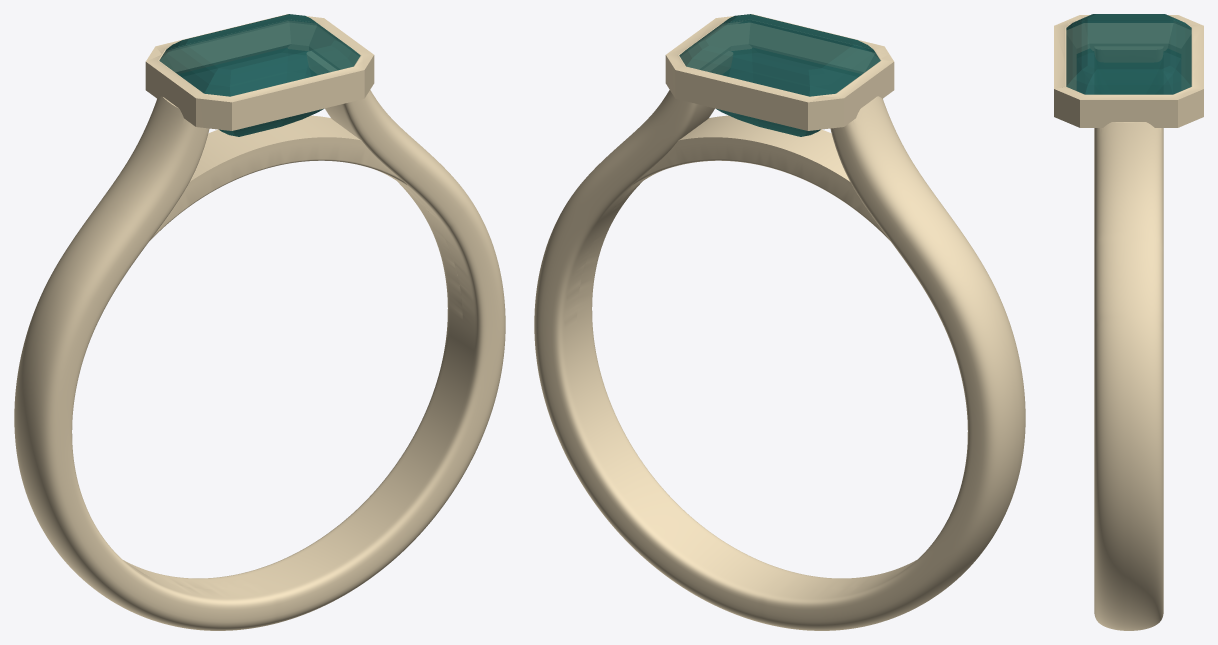
File: ring_2f6d2837.glb
3 views of the same model, side by side, from view 1: azimuth 30°, elevation 25°; view 2: azimuth 150°, elevation 25°; view 3: azimuth 270°, elevation 25° (orthographic). The views are drawn at different scales.
Visible parts, largest first — view 1: Object_1_WhiteMetal_0, Diamond_Emerald; view 2: Object_1_WhiteMetal_0, Diamond_Emerald; view 3: Object_1_WhiteMetal_0, Diamond_Emerald.
Boxes of the visible parts, x1,y1,x2,y2 form: Object_1_WhiteMetal_0: (14,14,505,630); Diamond_Emerald: (159,14,360,136); Object_1_WhiteMetal_0: (534,14,1025,630); Diamond_Emerald: (679,14,880,136); Object_1_WhiteMetal_0: (1054,15,1203,630); Diamond_Emerald: (1066,14,1191,94).
Size of the model in its own units: 0.0207 by 0.0241 by 0.0058.
